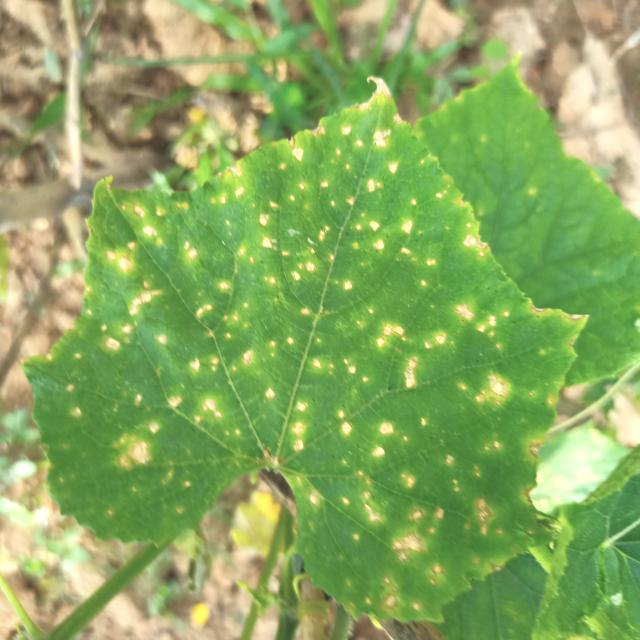disease_cucumber: (130, 121, 504, 356), (297, 326, 556, 612), (55, 245, 335, 499)
